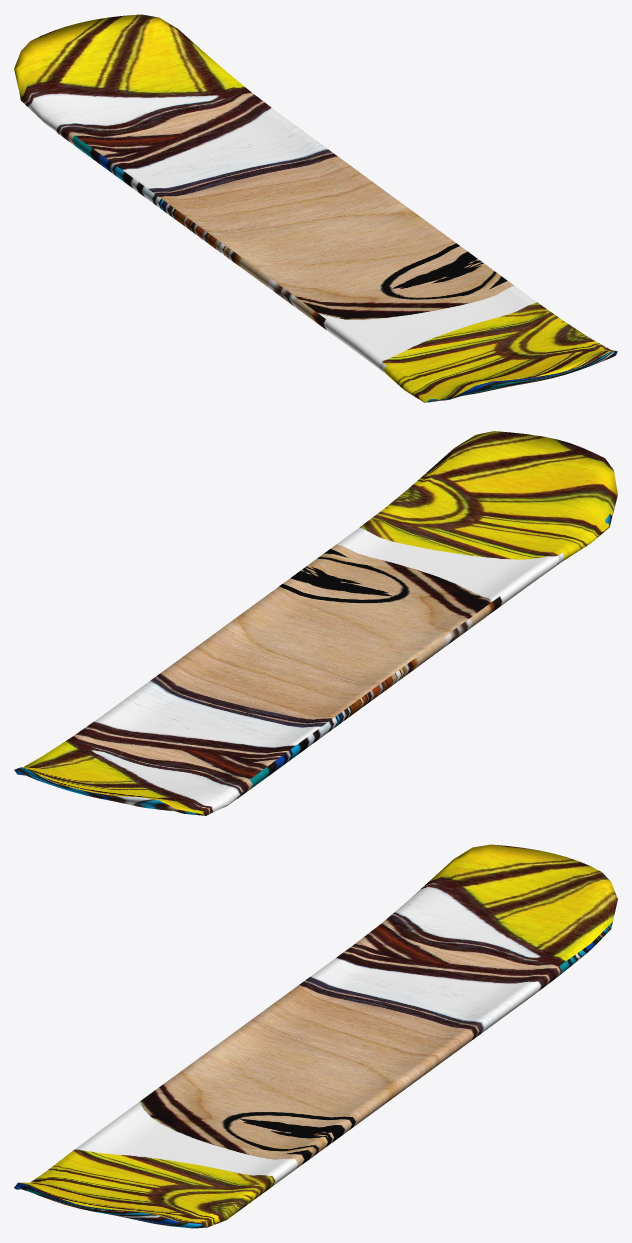
The model's file is Snowboard3.FBX.
3 views of the same model, one above another, from view 1: azimuth 30°, elevation 25°; view 2: azimuth 150°, elevation 25°; view 3: azimuth 330°, elevation 25° (orthographic).
Visible parts, largest first — view 1: Box001; view 2: Box001; view 3: Box001.
Part boxes in pixels (x1,y1,x2,y2): Box001: (14,14,617,402); Box001: (14,431,617,815); Box001: (14,844,617,1228).
Bounding box in the file's own units: 46.4 × 12.09 × 205.
Materials: 1 (1 with a texture image).
